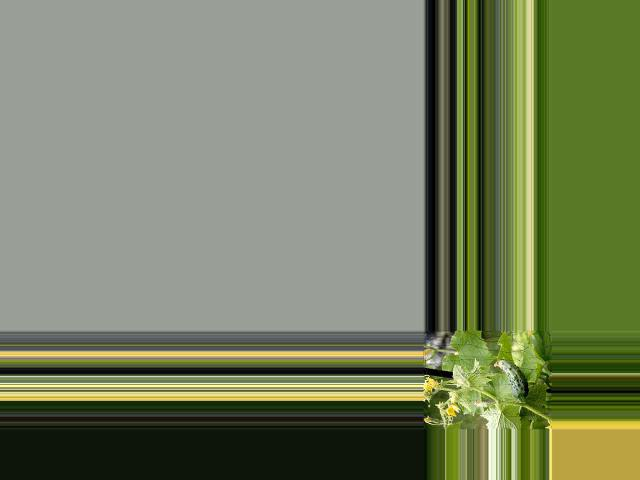cucumber: (493, 359, 528, 400)
